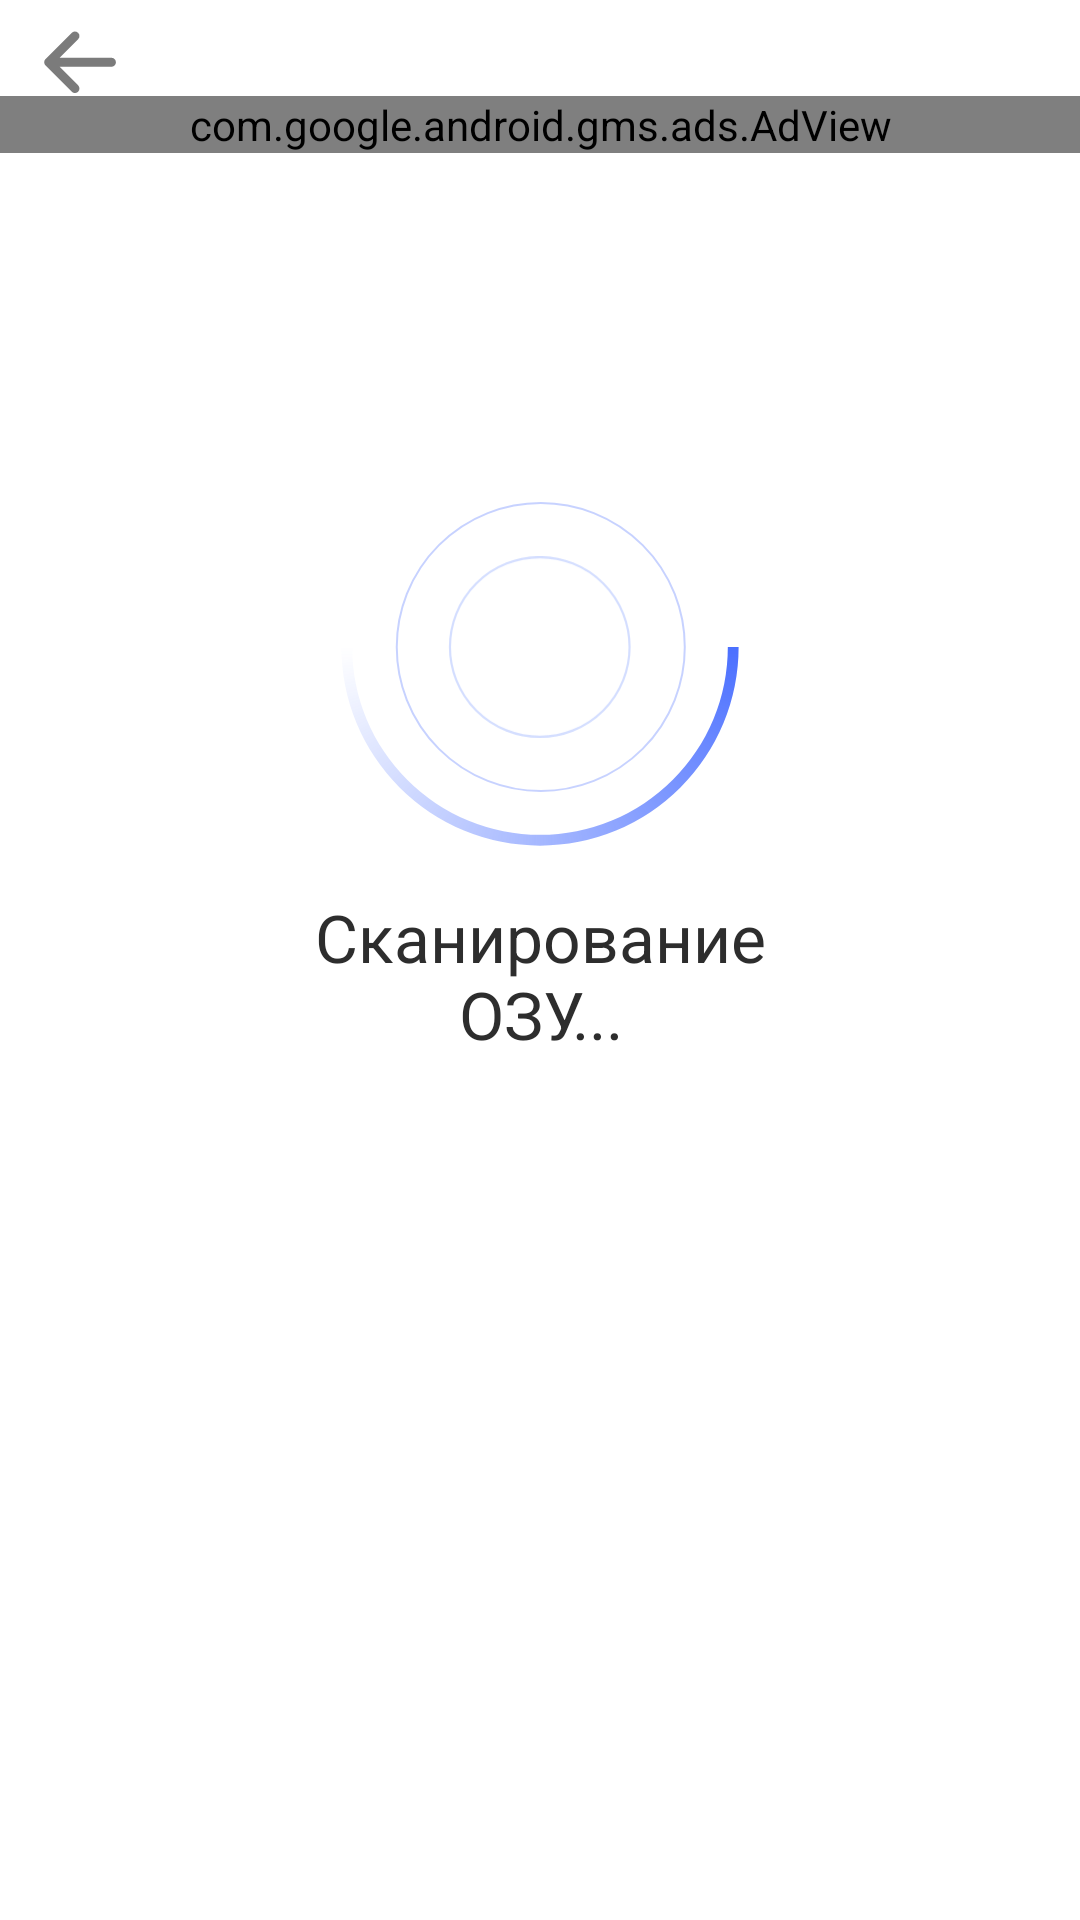

Named icons in this screenshot (1080w x 1920h) and their centers, (x,y):
back: (80,62)
